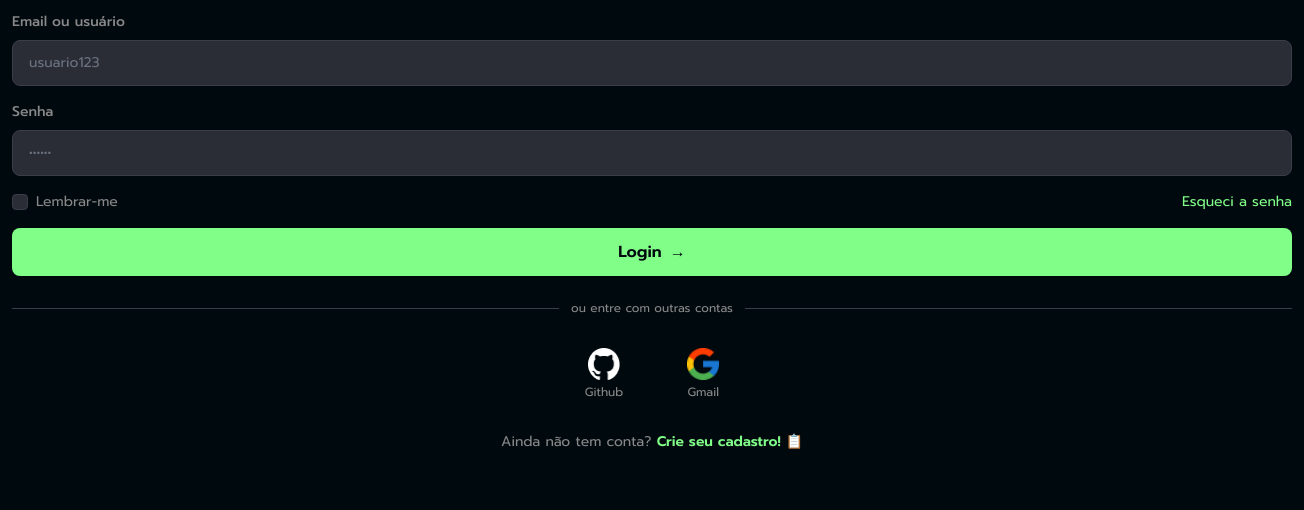
Test: LoginForm › shows validation errors on empty submit
Click the button "Login →".
click(652, 252)  # box [12,228,1292,276]
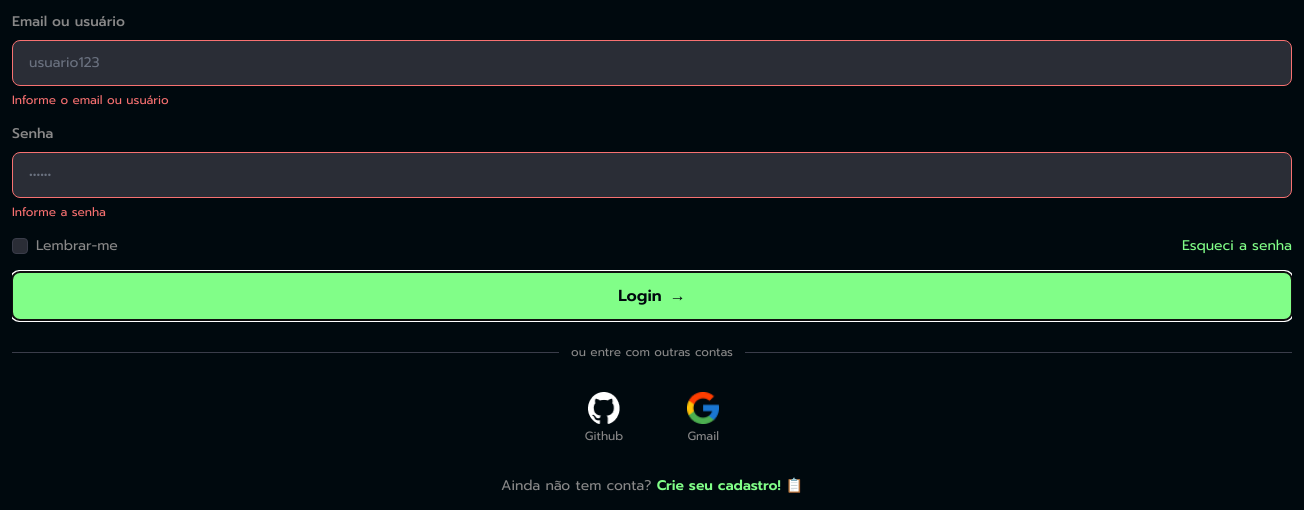
expect the number of messages is 2: met, box [12,91,169,109]; [12,203,106,221]
expect the text "Informe o email ou usuário" is shown: met, box [12,91,169,109]
expect the text "Informe a senha" is shown: met, box [12,203,106,221]
